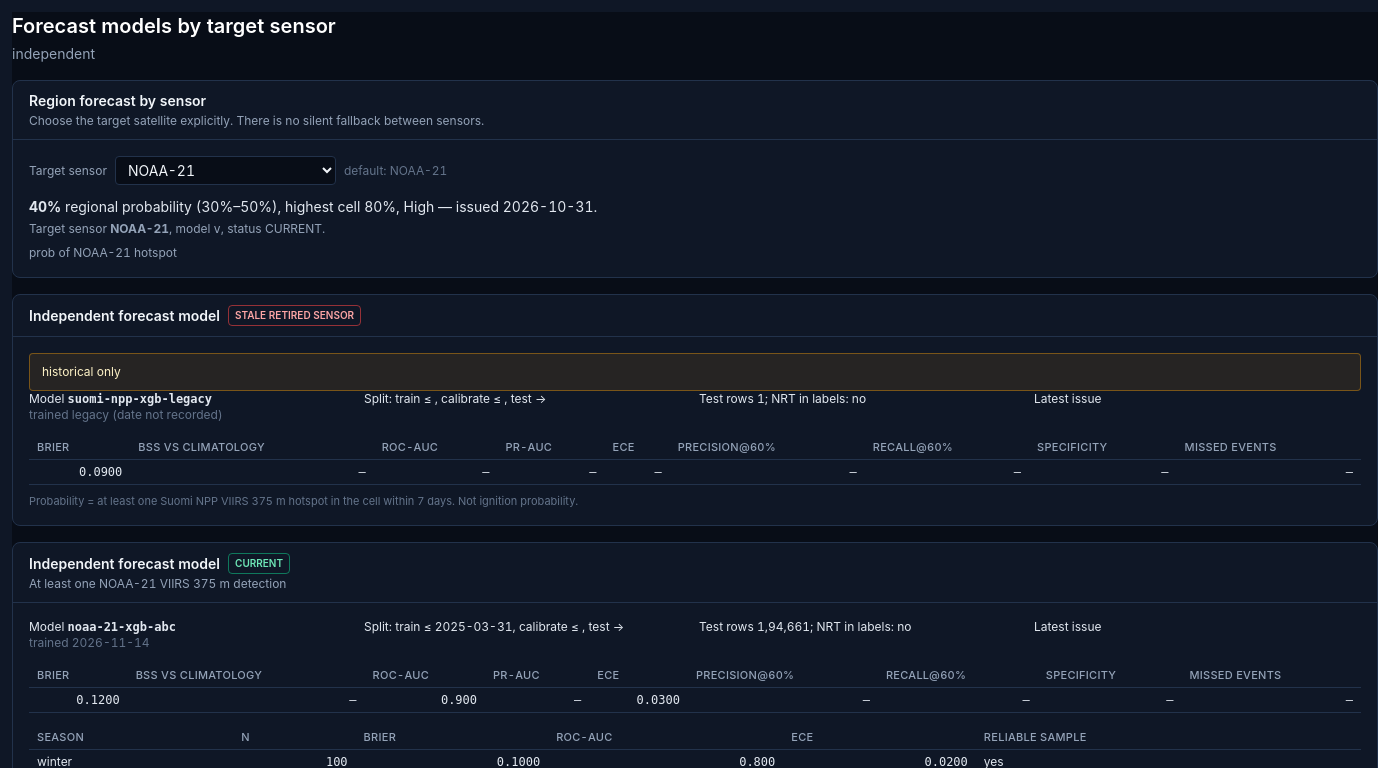
Scenario: forecast models and sensor selector › requests the chosen sensor explicitly and labels the stale legacy model
Expected: the text "prob of NOAA-21 hotspot" is shown, [29, 245, 177, 260]
Select "Suomi NPP (legacy, retired)" in the dropdown named "Forecast target sensor": (225, 170) [115, 156, 336, 185]
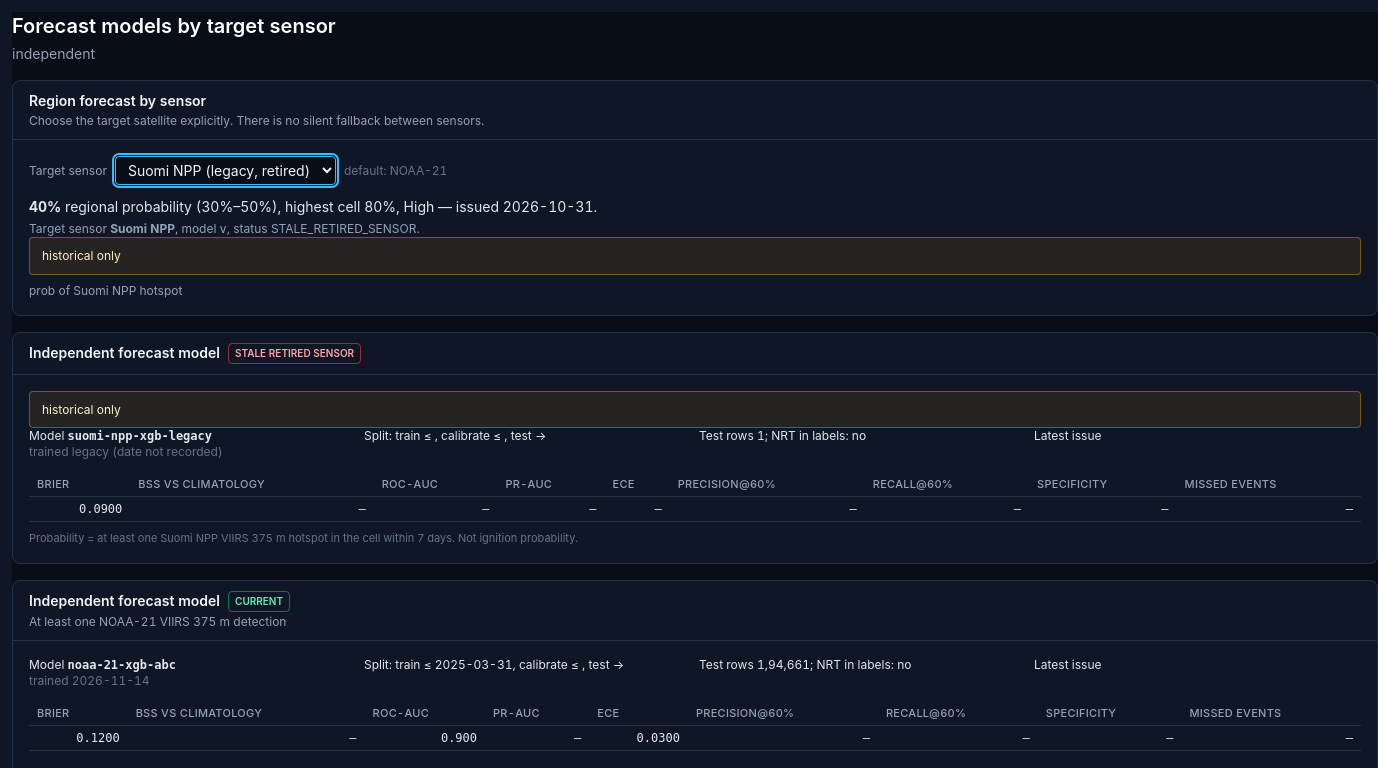
Expected: the text "prob of Suomi NPP hotspot" is shown, [29, 282, 182, 298]
Expected: the text "historical only" below ", model" is shown, [42, 248, 121, 263]
